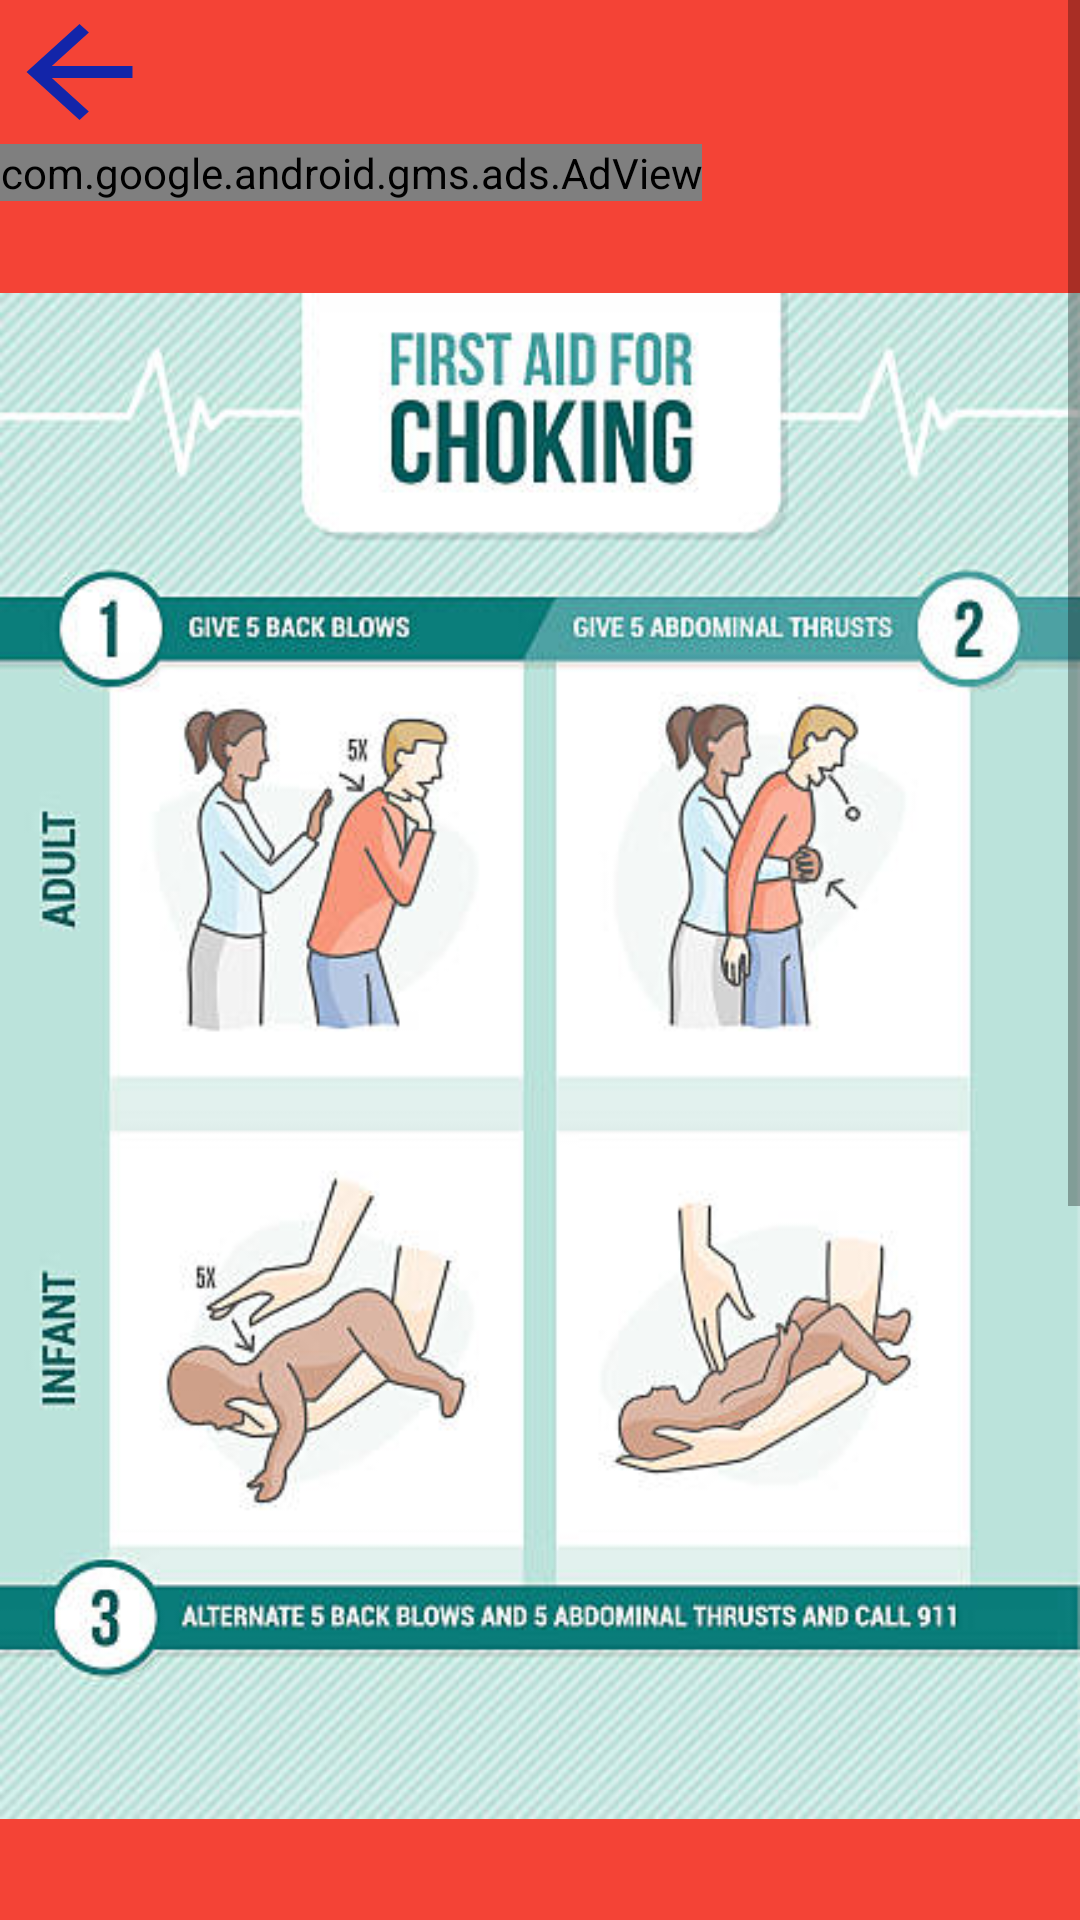

Locate icon controls on the screen. Image size 1080px x 1920px, boxes as (x1=x1, y1=y1, x2=x2, y2=y2).
backarroww: (x1=27, y1=24, x2=133, y2=120)
